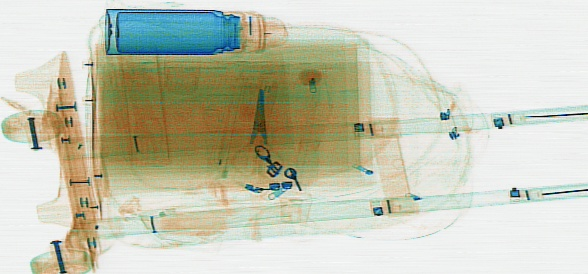scissors: (229, 88, 283, 177)
